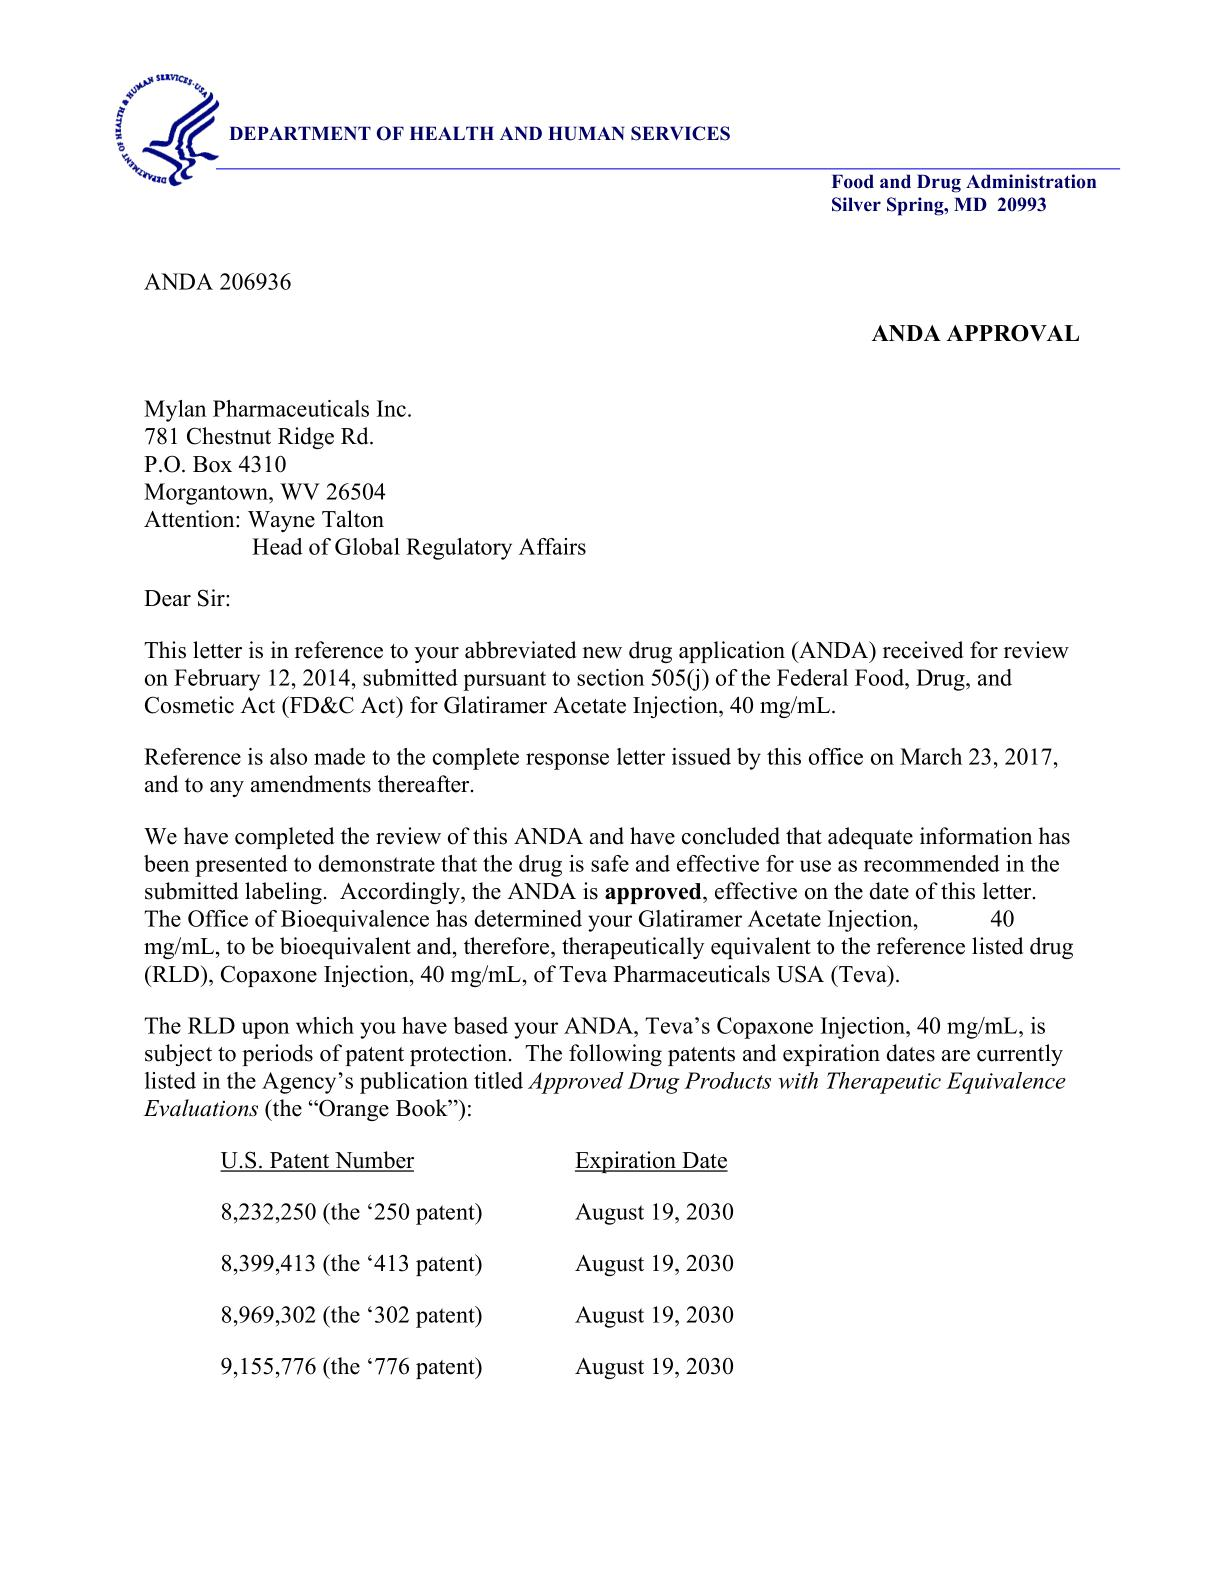nolines: (216, 1146, 741, 1380)
